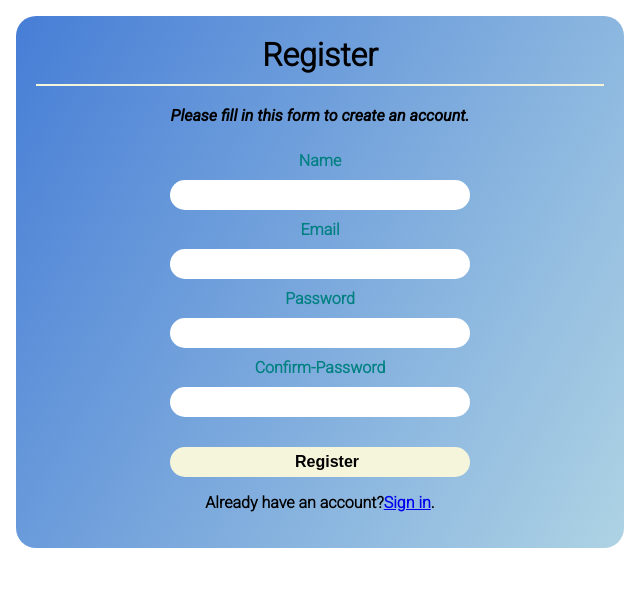
Test: Test Register component › Register form inputs errors › should show invalid password error!
The width and height of the screenshot is (641, 601).
Type "12" into the password field with test id "password" at (320,333), box x1=170 y1=318 x2=470 y2=348
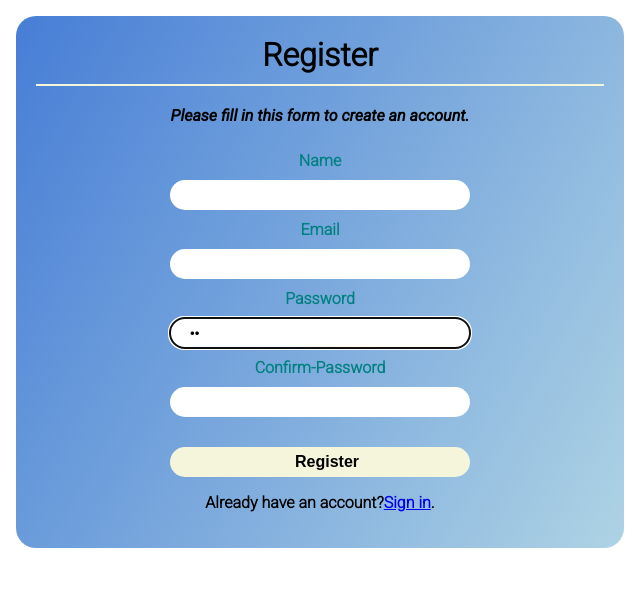
Press Tab
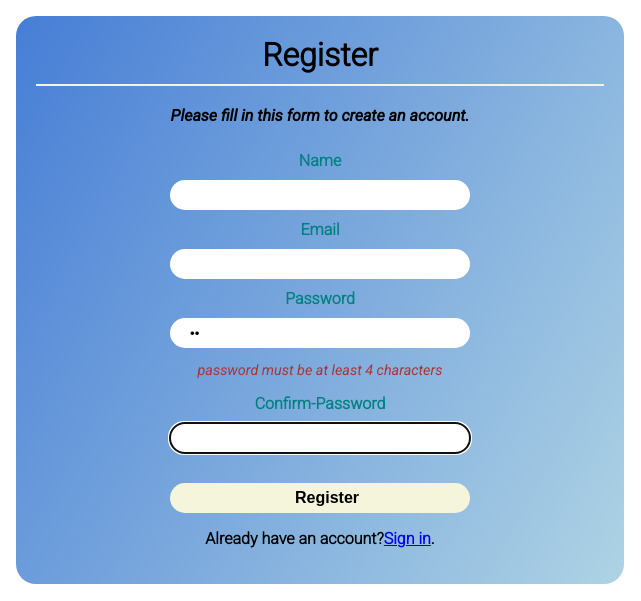
Now the text "password must be at least 4 characters" is shown, box x1=198 y1=362 x2=442 y2=379
